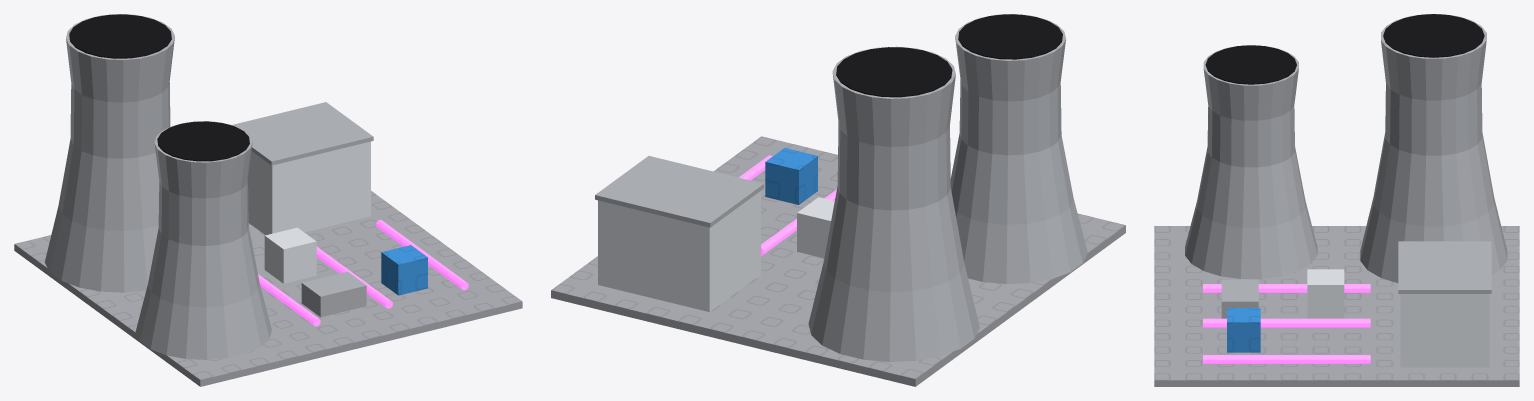
File: Grande_Centrale_Nucleaire.glb
3 views of the same model, side by side, from view 1: azimuth 30°, elevation 25°; view 2: azimuth 150°, elevation 25°; view 3: azimuth 270°, elevation 25° (orthographic). The views are drawn at different scales.
Visible parts, largest first — view 1: Grande_Centrale_Nucleaire; view 2: Grande_Centrale_Nucleaire; view 3: Grande_Centrale_Nucleaire.
Part boxes in pixels (<box>): Grande_Centrale_Nucleaire: <box>14,14,522,386</box>; Grande_Centrale_Nucleaire: <box>551,14,1125,386</box>; Grande_Centrale_Nucleaire: <box>1154,14,1519,386</box>.
Size of the model in its own units: 9.98 by 6.73 by 9.8.
6 materials, 2 textured.
